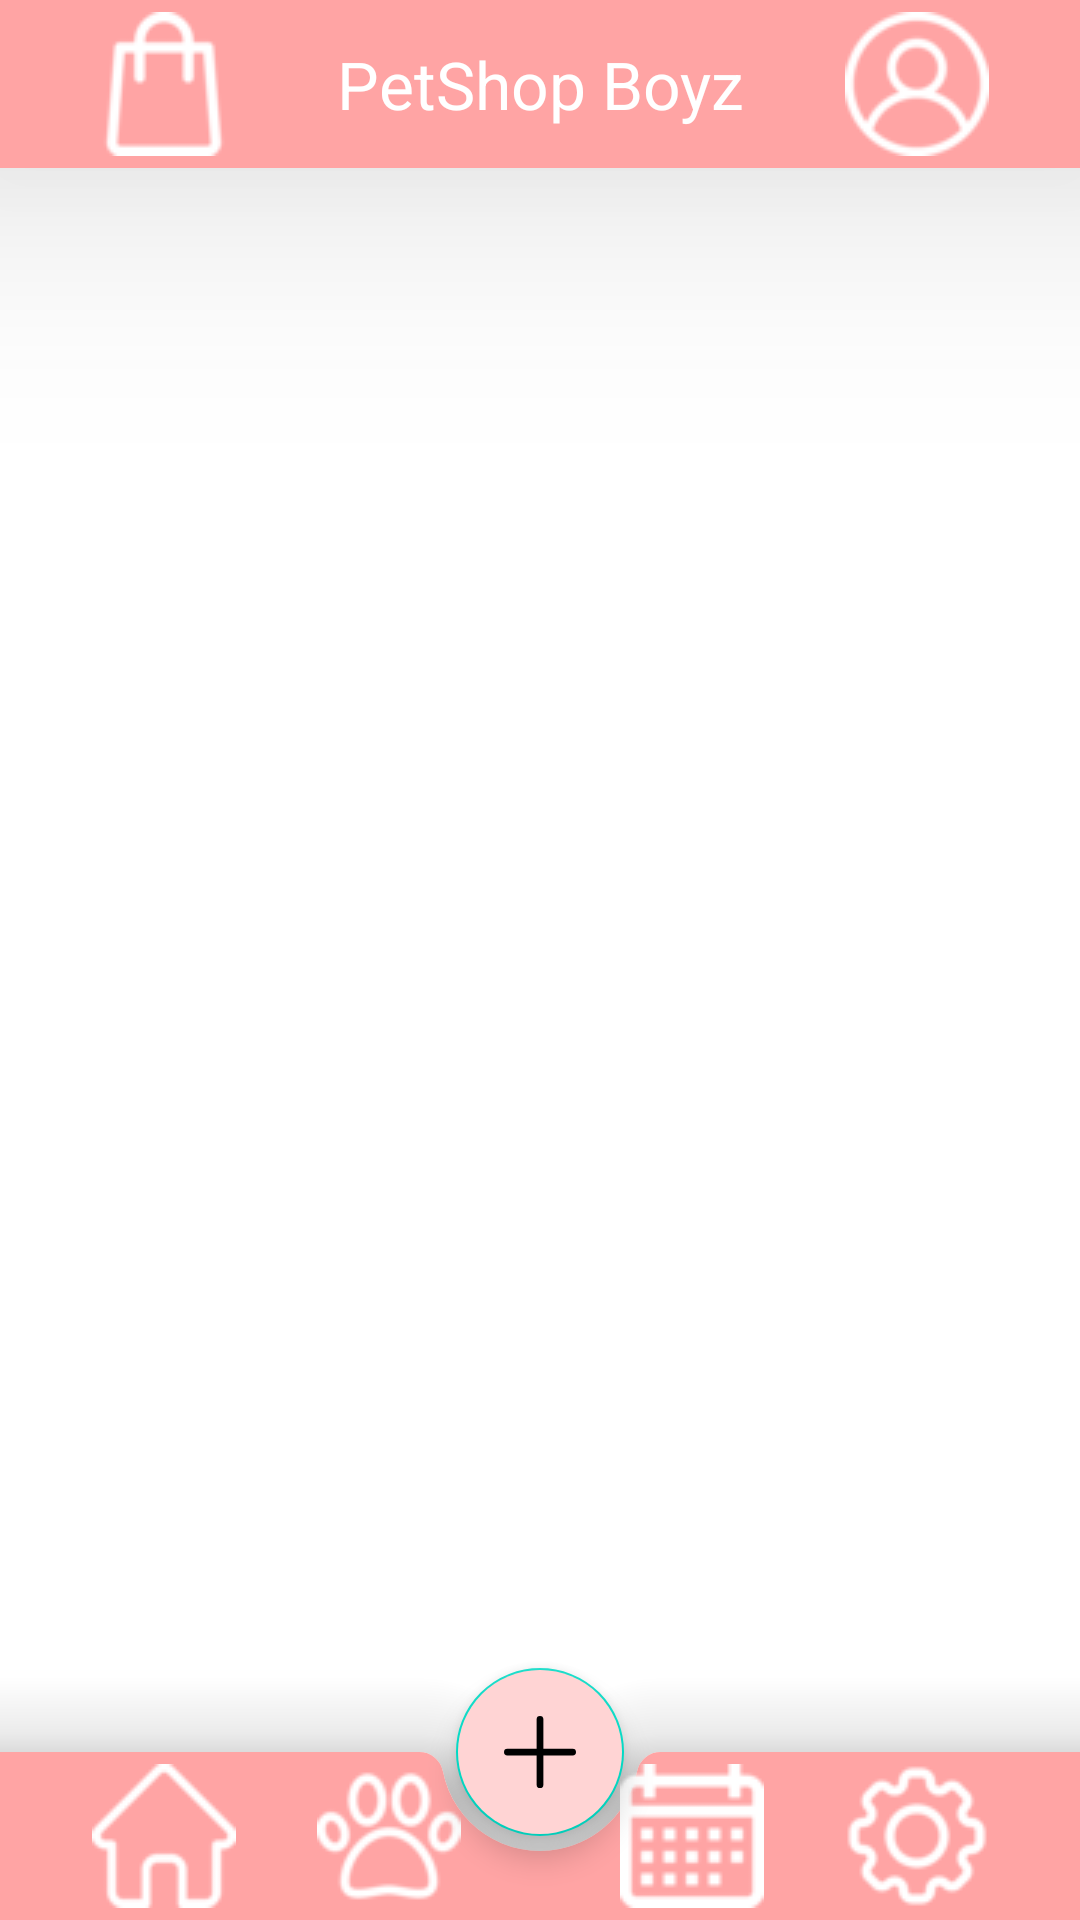

Screen size 1080w x 1920h. Icon name, then its center in pixels as point (x, y):
add: point (540, 1752)
home: point (164, 1836)
pet: point (389, 1836)
setting: point (917, 1836)
user: point (917, 84)
